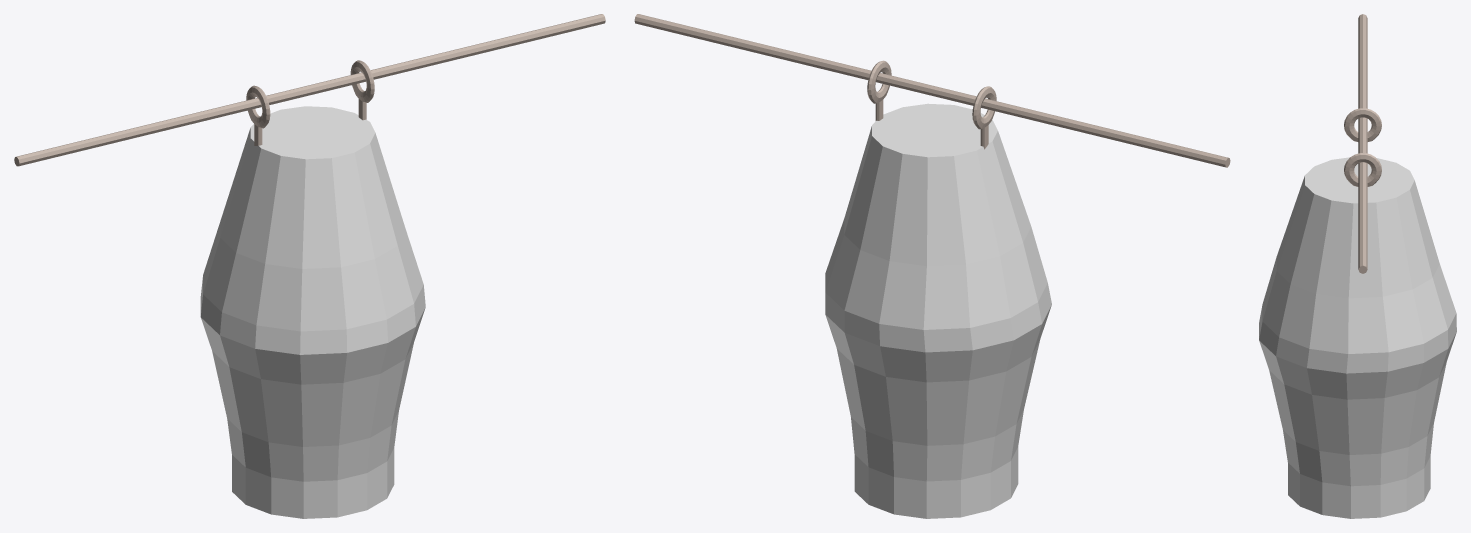
Rendered from mannequin.fbx.
3 renders of one model, left to right at view 1: azimuth 30°, elevation 25°; view 2: azimuth 150°, elevation 25°; view 3: azimuth 270°, elevation 25°, orthographic. The views are drawn at different scales.
Parts seen in each view (by area): view 1: contour, hanger; view 2: contour, hanger; view 3: contour, hanger.
Part boxes in pixels (x1=…): contour: x1=200, y1=106, x2=425, y2=518; hanger: x1=14, y1=14, x2=605, y2=166; contour: x1=825, y1=103, x2=1051, y2=518; hanger: x1=634, y1=14, x2=1230, y2=167; contour: x1=1259, y1=157, x2=1456, y2=518; hanger: x1=1344, y1=14, x2=1381, y2=273.
Size of the model in its own units: 1196 by 795 by 398.
